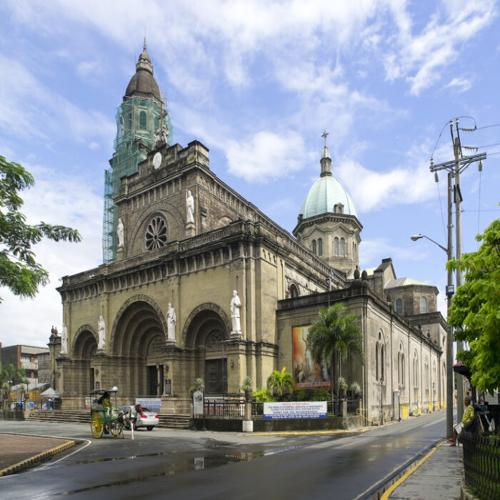Manila Cathedral Church: (41, 27, 448, 427)
